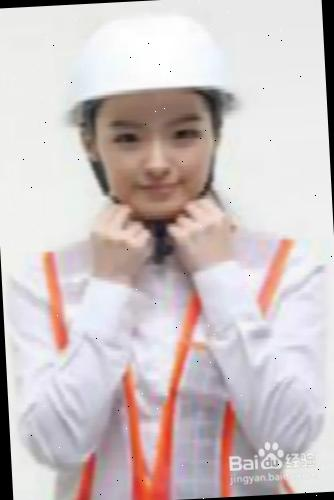helmet: (44, 0, 248, 151)
